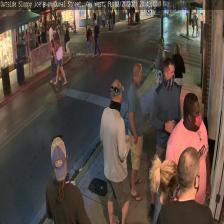person: (164, 92, 210, 220), (150, 57, 181, 221), (97, 78, 131, 224), (155, 147, 210, 223), (46, 135, 89, 223), (128, 62, 144, 200), (151, 154, 178, 224), (172, 44, 184, 99)
